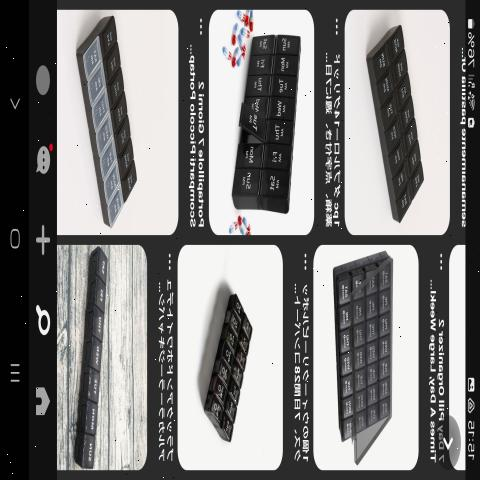PillBox: (349, 22, 441, 220), (68, 8, 150, 222), (322, 252, 406, 458), (192, 268, 269, 458), (231, 16, 299, 228), (72, 248, 120, 474)
